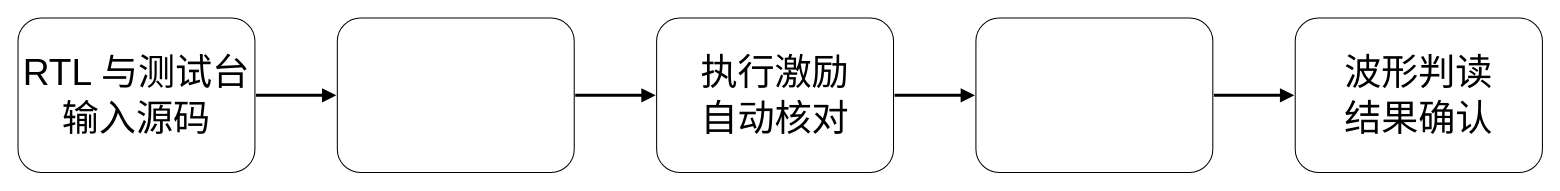
The diagram is 1560 pixels wide and 191 high, and some of its shapes have lost their labels. Here are the shapes that lost their labels. From the top down, the centre of each, then its label:
the point at 455,95: 编译与加载 vlog / vsim
the point at 1094,95: 日志与波形 输出证据
